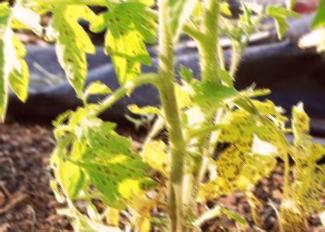Tomato Septoria leaf spot: (52, 121, 160, 210), (196, 120, 280, 209), (272, 111, 325, 232), (36, 0, 93, 95), (93, 2, 155, 80)
